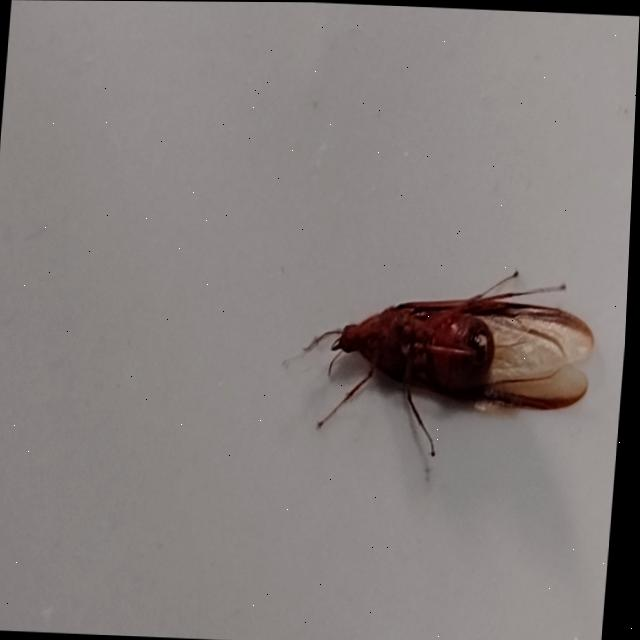Dead-Male-Alate: (290, 255, 603, 465)
